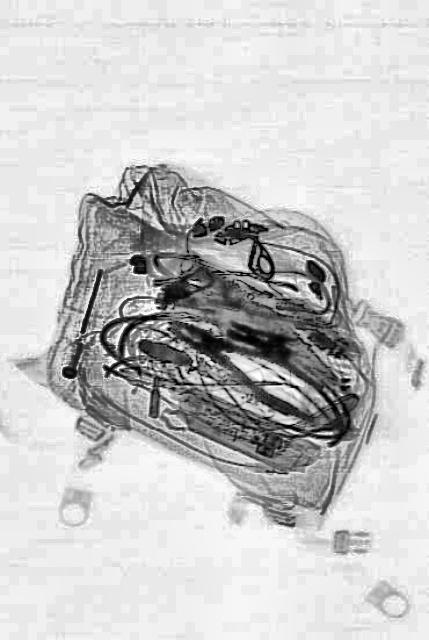Pliers: (160, 299, 324, 427)
